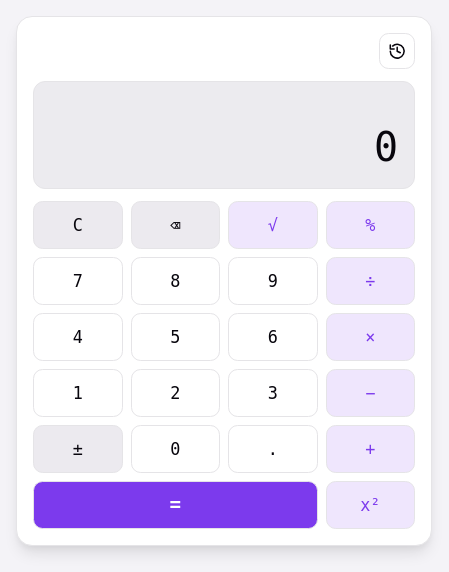
Test case: Calculator › performs an addition end to end via button clicks
The image size is (449, 572).
What coordinates should you click on to do the following:
click the button with test id "key-2"
I would click on:
 (175, 393)
Its box is [130,369,220,417].
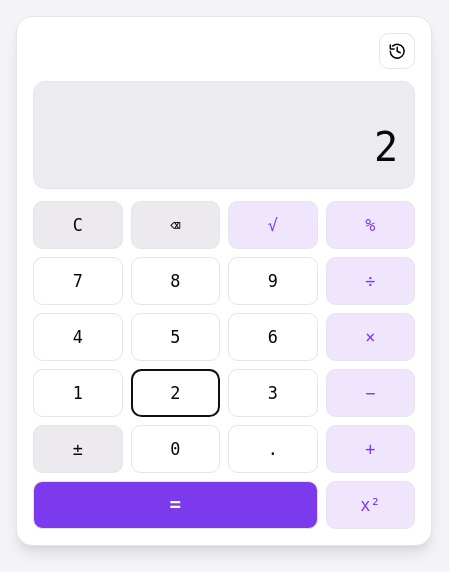
What coordinates should you click on to do the following:
click the button with test id "key-add"
I would click on:
 (370, 449)
Its box is [326,425,415,473].
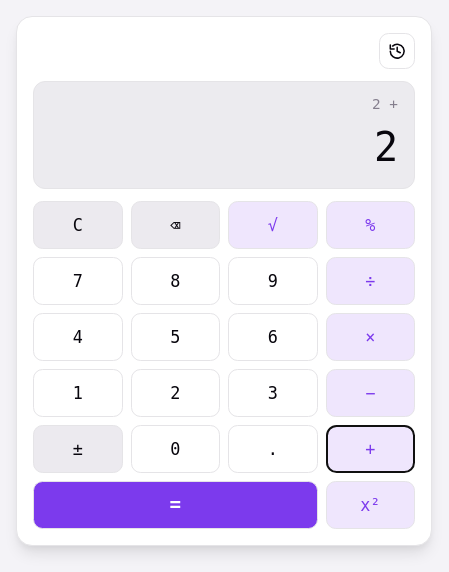
What coordinates should you click on to do the following:
click the button with test id "key-3"
I would click on:
 (273, 393)
Its box is [228,369,318,417].
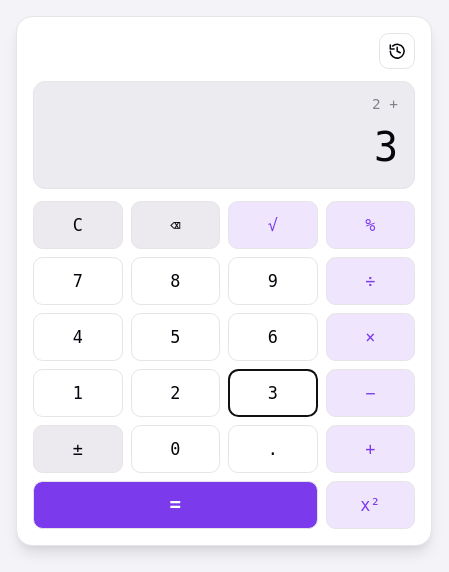
What coordinates should you click on to do the following:
click the button with test id "key-equals"
I would click on:
 (175, 505)
Its box is [33,481,318,529].
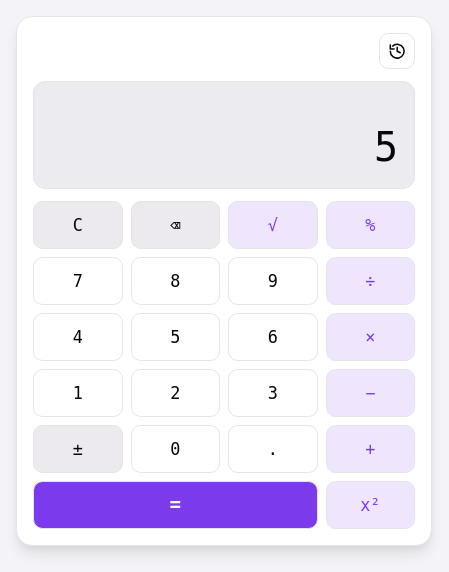
Expected: the text with test id "display-value" reads "5", [374,124,398,170]
